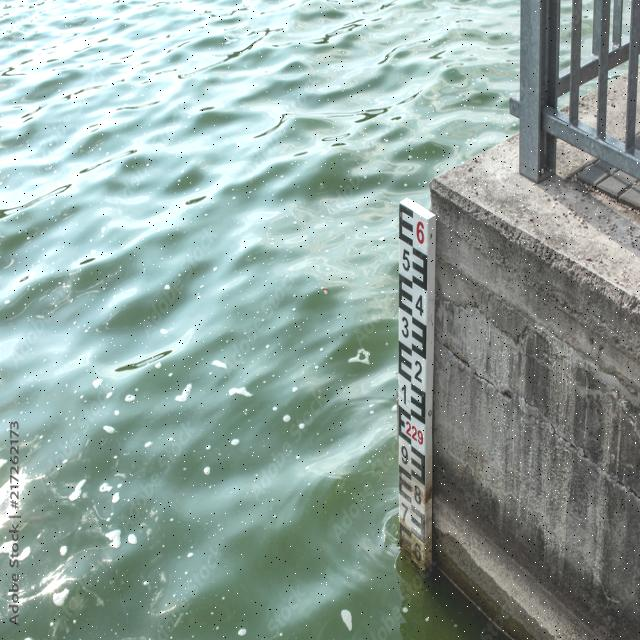staff: (396, 199, 437, 568)
